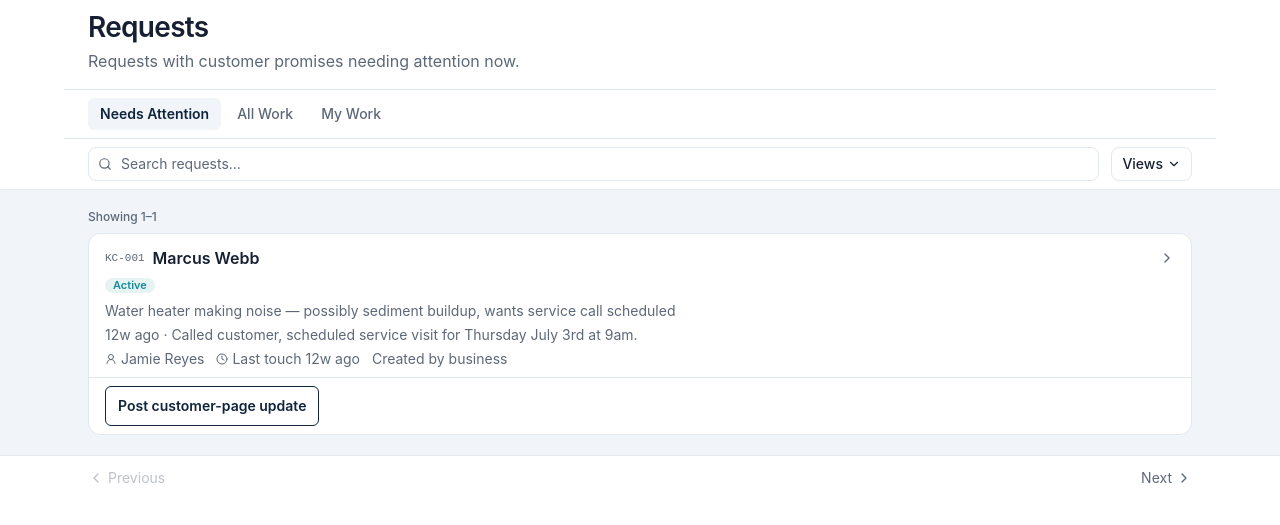
Test: Requests — GAP-043 pagination affordances › moves to page two on Next, updates the range, scrolls, and focuses the range heading
Expected: the heading "Showing 1–1" is shown, x1=88 y1=209 x2=157 y2=224
Click the button "Next". click: (1167, 478)
box: x1=1141 y1=468 x2=1192 y2=488
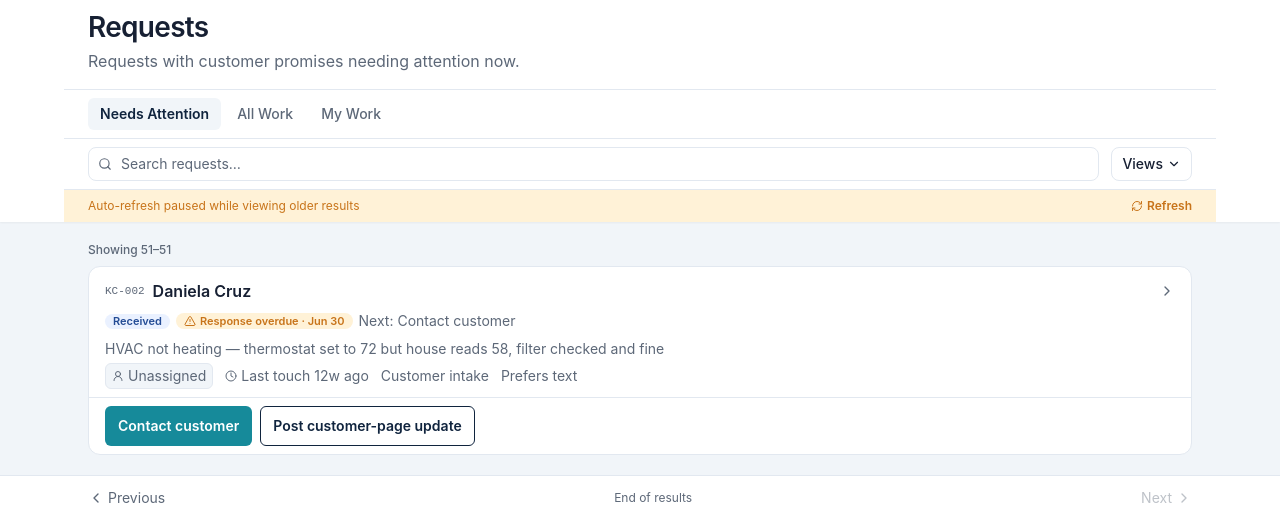
Now the heading "Showing 51–51" is shown, box x1=88 y1=242 x2=171 y2=257
Now the text "End of results" is shown, box x1=614 y1=490 x2=692 y2=506
Now the button "Previous" is enabled, box x1=88 y1=488 x2=165 y2=508
